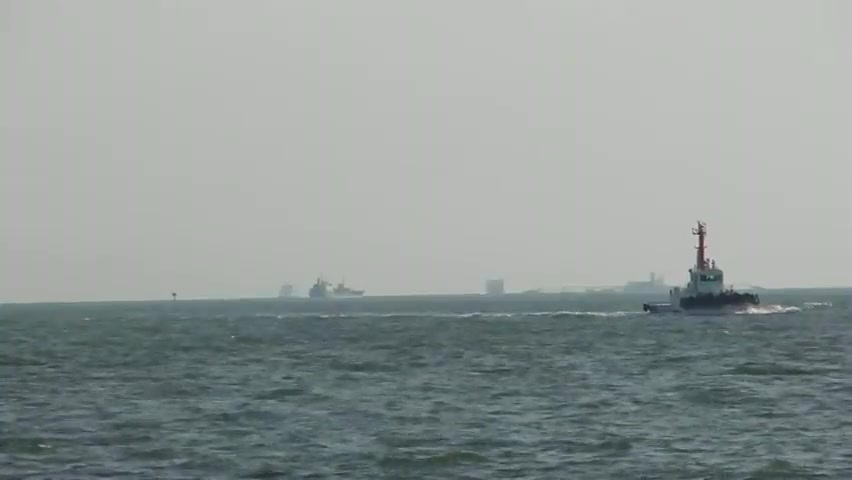boat: (639, 215, 762, 316)
